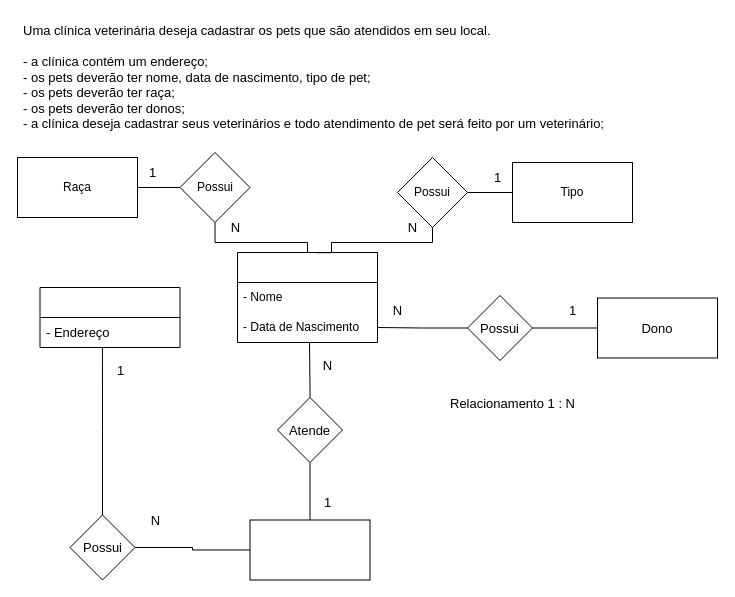
Some shapes in this 735 by 597 pixel diagram are drawn without their labels. The box of each missing label's shape, as (x1, y1, x2, y2) in pixels:
C línica: (39, 286, 180, 348)
Pets: (236, 252, 378, 342)
Veterinário: (249, 519, 370, 580)
